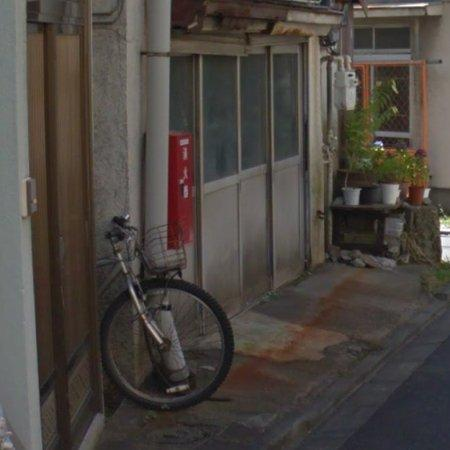bicycles: (102, 224, 233, 410)
